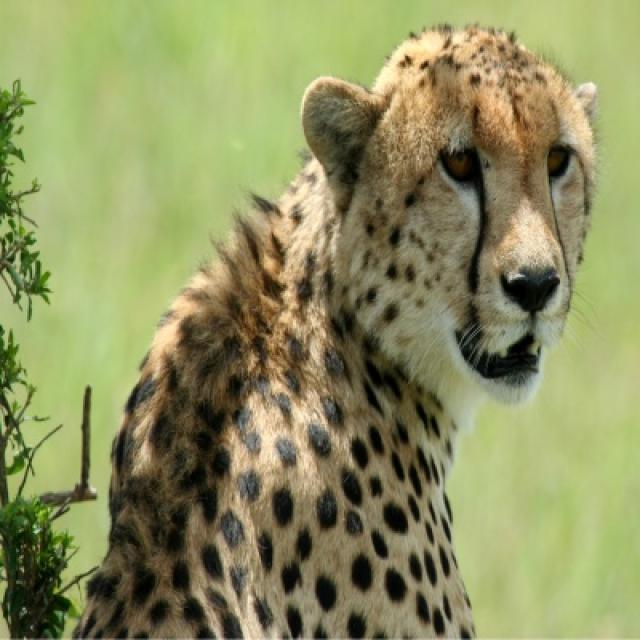Cheetah: (69, 22, 598, 638)
